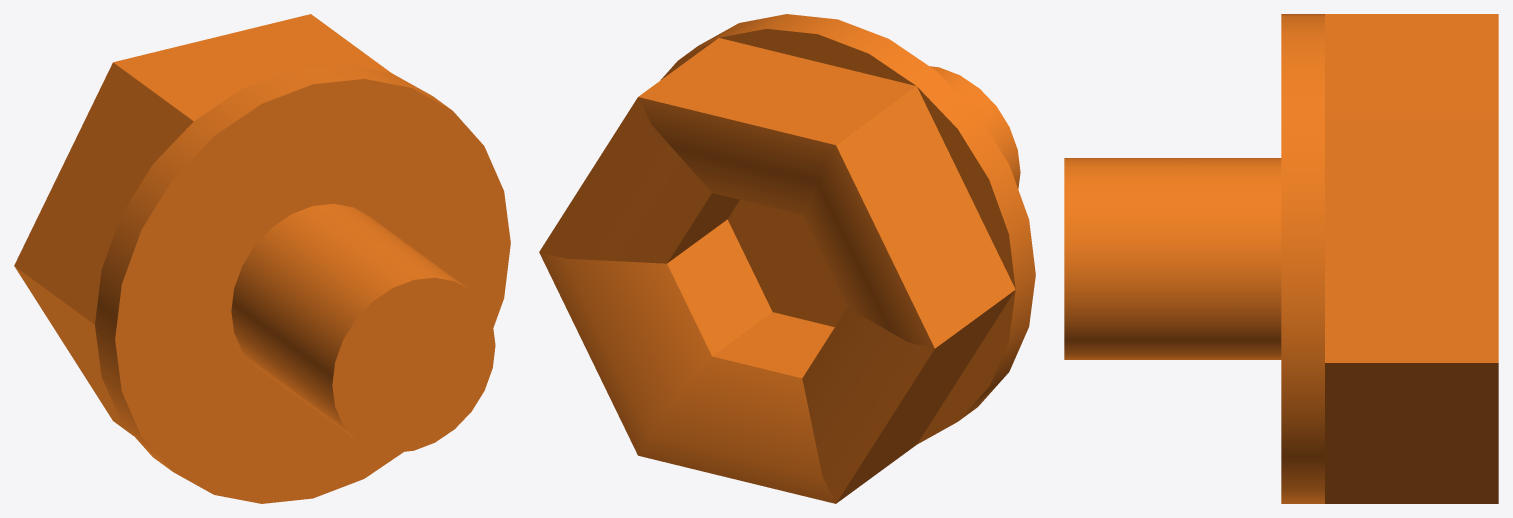
3 views of the same model, side by side, from view 1: azimuth 30°, elevation 25°; view 2: azimuth 150°, elevation 25°; view 3: azimuth 270°, elevation 25° (orthographic). The views are drawn at different scales.
Parts seen in each view (by area): view 1: gripper_frame; view 2: gripper_frame; view 3: gripper_frame.
Boxes of the visible parts, left/top/right/bottom form: gripper_frame: left=14, top=14, right=510, bottom=503; gripper_frame: left=539, top=14, right=1035, bottom=503; gripper_frame: left=1064, top=14, right=1498, bottom=503.
Bounding box in the file's own units: 0.0339 × 0.0339 × 0.03.
